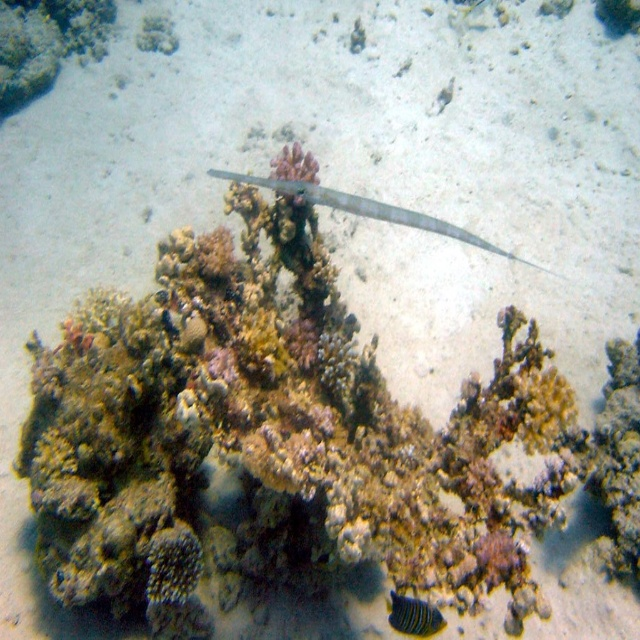Fish: (206, 166, 561, 277)
